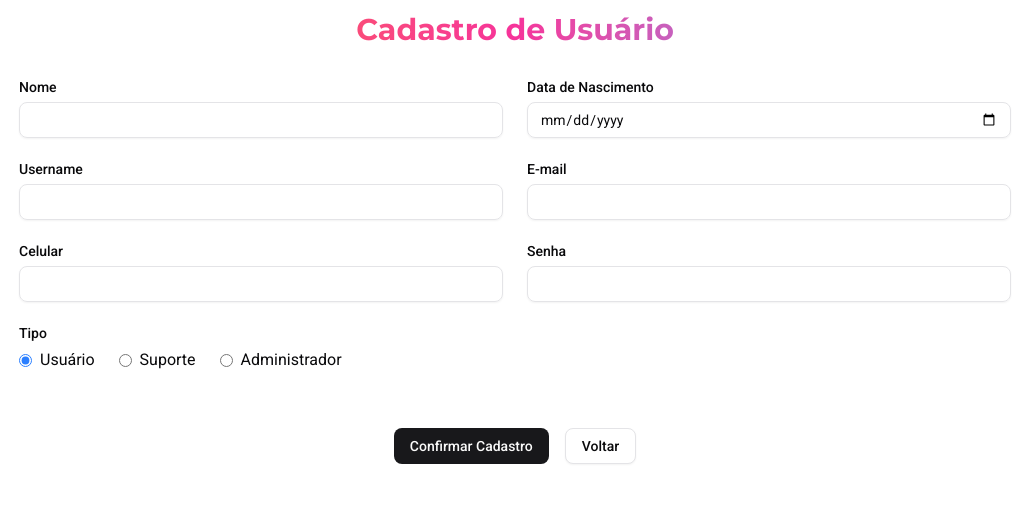
AddUserPage Component › Formulário e API › Deve mostrar múltiplos erros de campo quando a API retorna fieldErrors
This screenshot has width=1031, height=521.
Type "Novo Usuário" into the field labelled "Nome". click: (261, 120)
box: [19, 102, 503, 138]
Type "novoUser" into the field labelled "Username". click: (261, 202)
box: [19, 184, 503, 220]
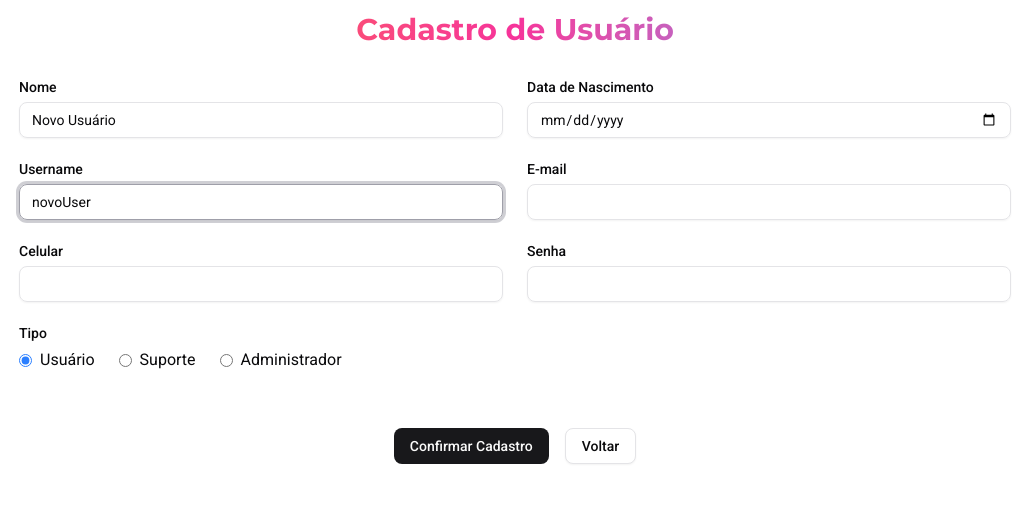
Type "2000-01-01" into the date field labelled "Data de Nascimento". click: (769, 120)
box: [527, 102, 1011, 138]
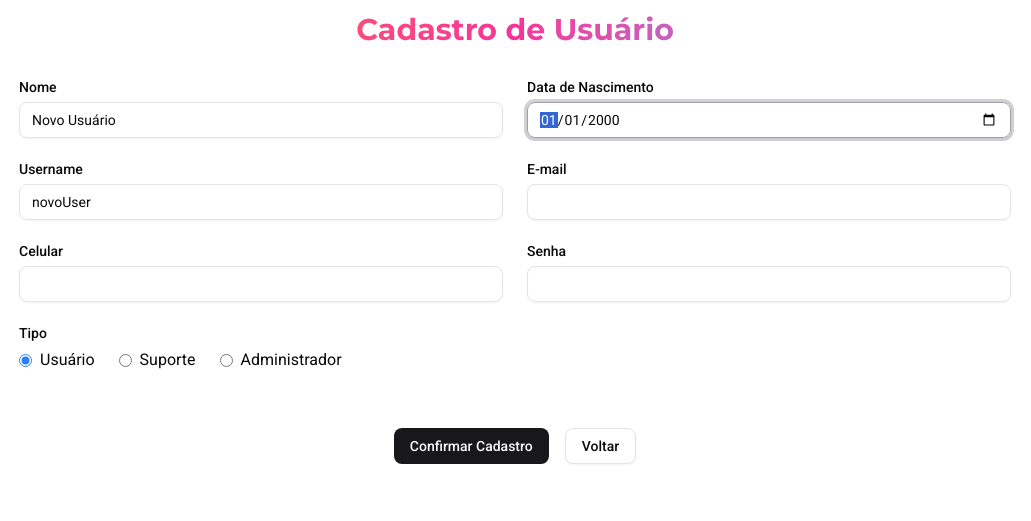
Type "novo@teste.com" into the field labelled "E-mail". click: (769, 202)
box: [527, 184, 1011, 220]
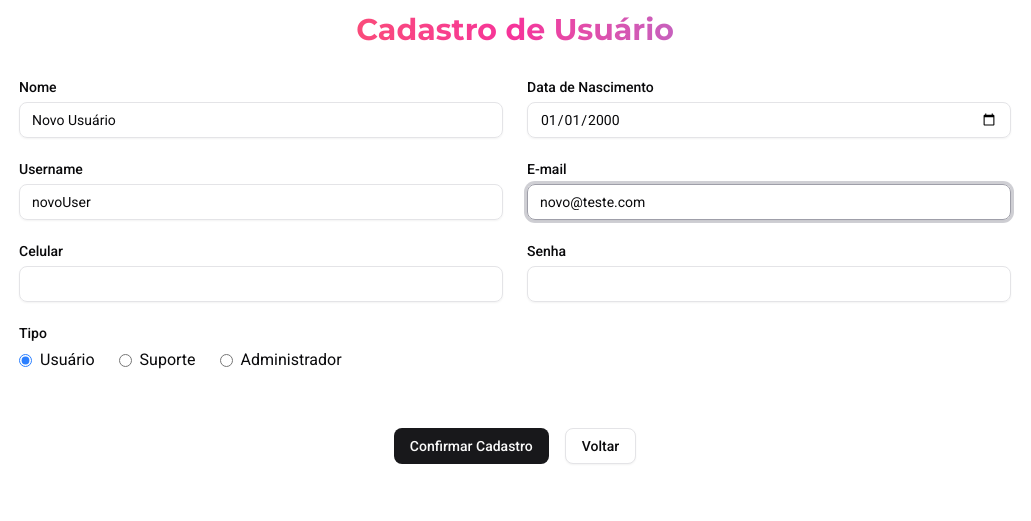
Type "5592929999999" into the field labelled "Celular". click: (261, 284)
box: [19, 266, 503, 302]
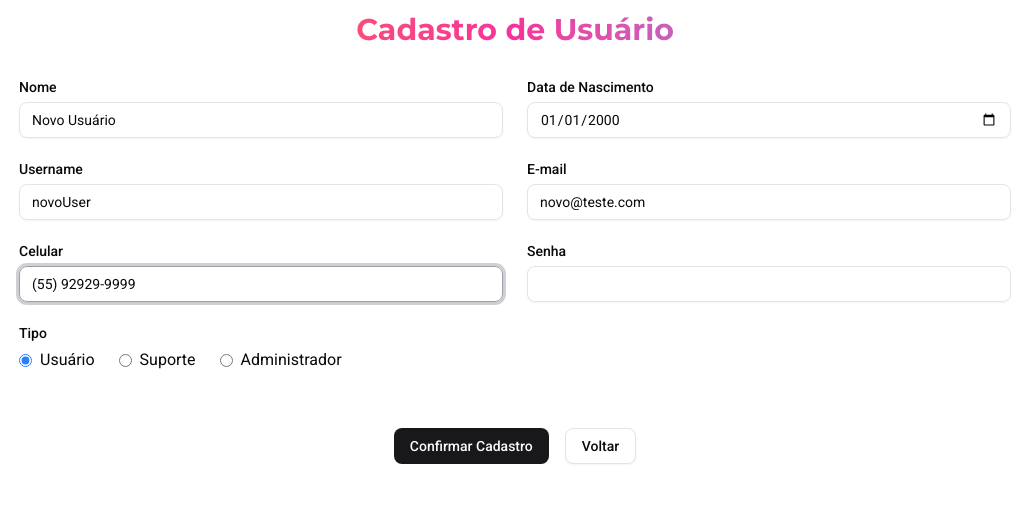
Type "12345Ab@" into the password field labelled "Senha". click: (769, 284)
box: [527, 266, 1011, 302]
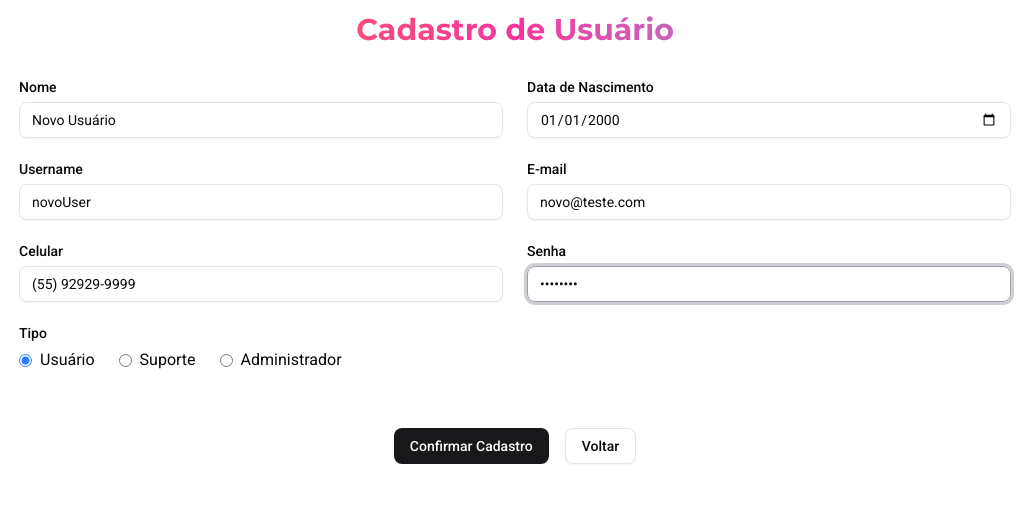
Click the button "Confirmar Cadastro". click: click(471, 446)
box: [394, 428, 549, 464]
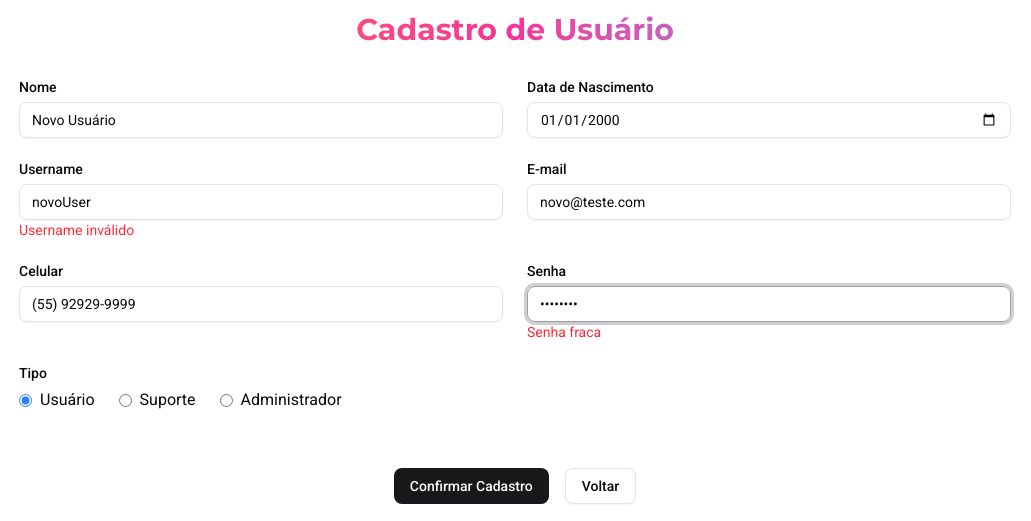
Result: the text "Username inválido" is shown at [19, 222, 134, 238]
Result: the text "Senha fraca" is shown at [527, 324, 601, 340]
